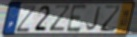2: (32, 5, 52, 33)
E: (65, 3, 89, 34)
J: (85, 6, 103, 32)
Z: (48, 4, 73, 33), (15, 4, 39, 34), (99, 4, 122, 33)
